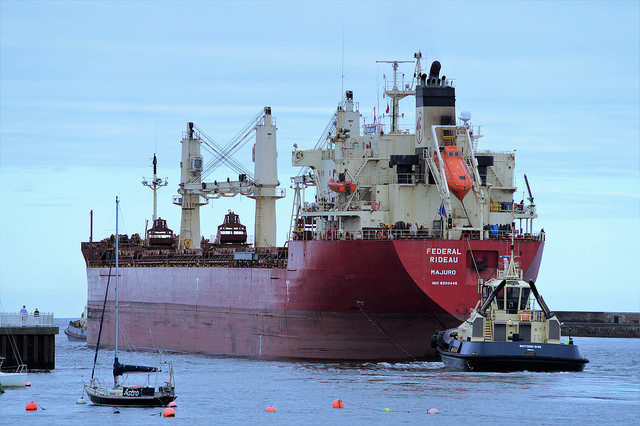boat: (84, 193, 177, 413)
bulk carrier: (85, 48, 543, 360)
tug_boat: (441, 233, 590, 377)
